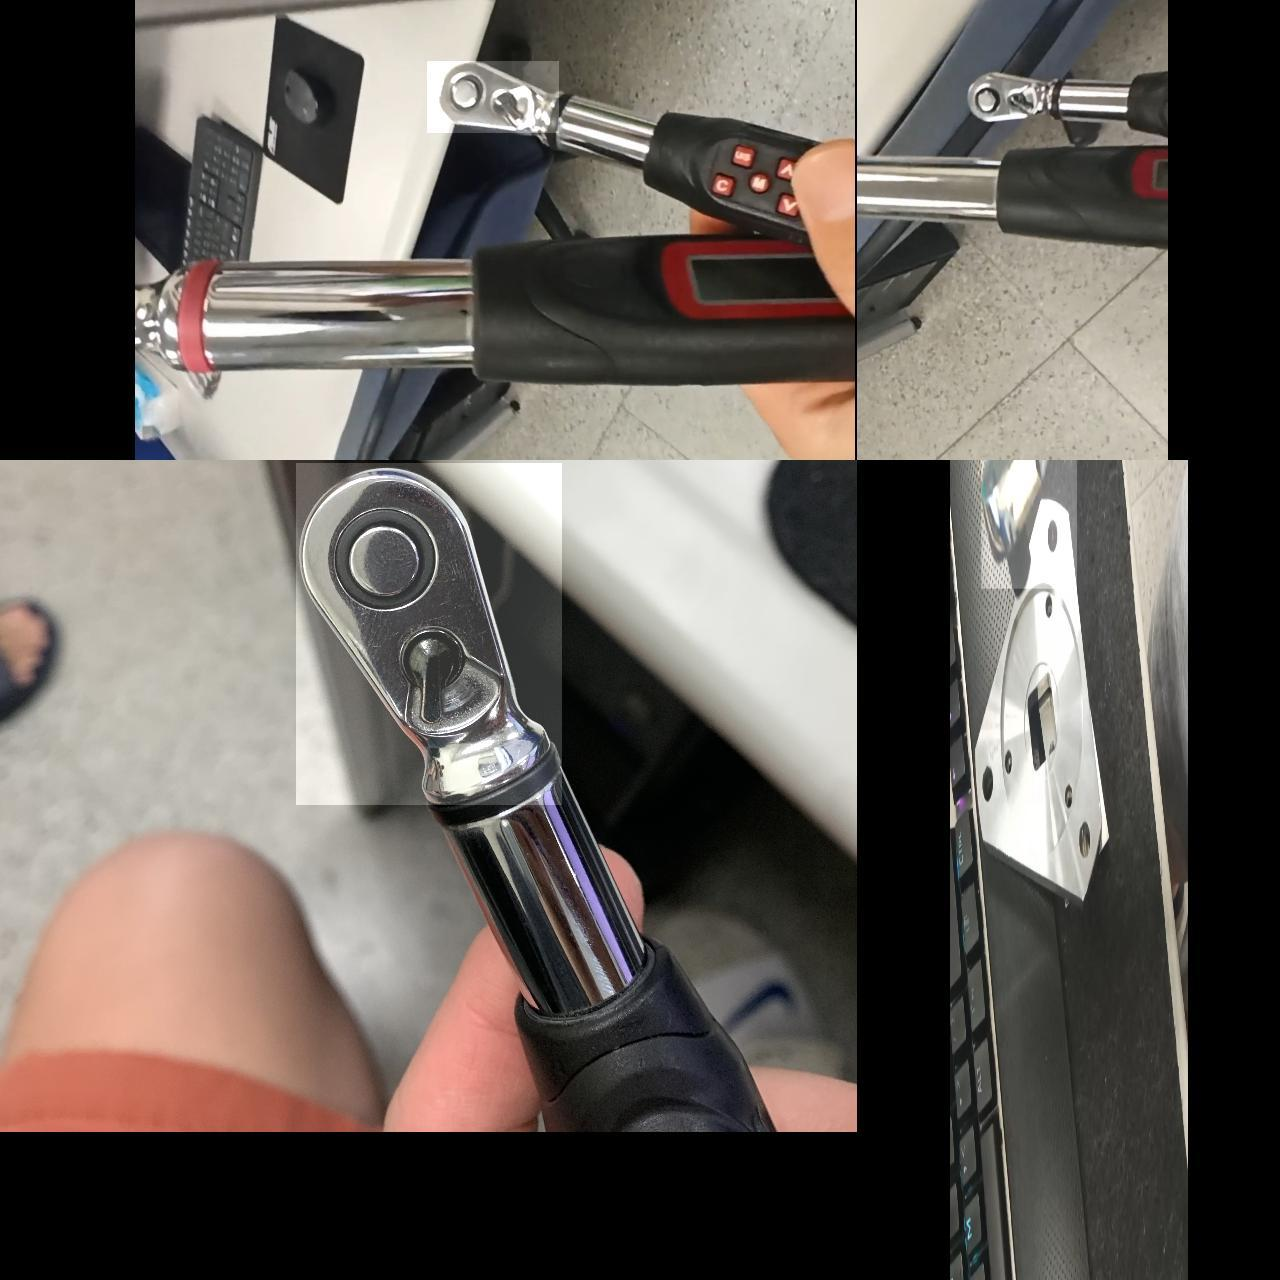Tool: (297, 462, 561, 804), (981, 459, 1076, 588), (427, 60, 559, 132), (971, 67, 1058, 128)
